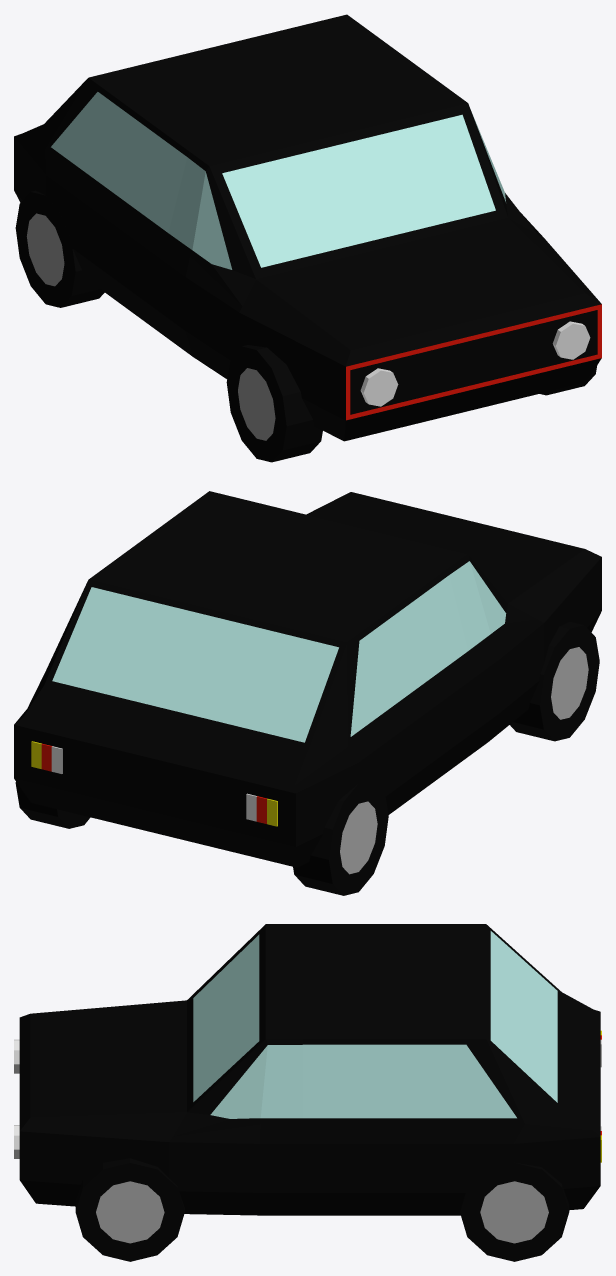
Rendered from small.fbx.
3 renders of one model, top to bottom at view 1: azimuth 30°, elevation 25°; view 2: azimuth 150°, elevation 25°; view 3: azimuth 270°, elevation 25°, orthographic. The views are drawn at different scales.
Parts seen in each view (by area): view 1: Cube, Cylinder, Cylinder.001; view 2: Cube, Cylinder, Cylinder.001; view 3: Cube, Cylinder, Cylinder.001.
Part boxes in pixels (x1,y1,x2,y2): Cube: [14, 14, 601, 441]; Cylinder: [15, 190, 597, 462]; Cylinder.001: [360, 321, 590, 406]; Cube: [14, 491, 601, 867]; Cylinder: [15, 622, 599, 895]; Cylinder.001: [31, 741, 277, 826]; Cube: [19, 924, 600, 1215]; Cylinder: [75, 1158, 569, 1261]; Cylinder.001: [14, 1030, 601, 1162].
Size of the model in its own units: 54.32 by 38.36 by 97.
